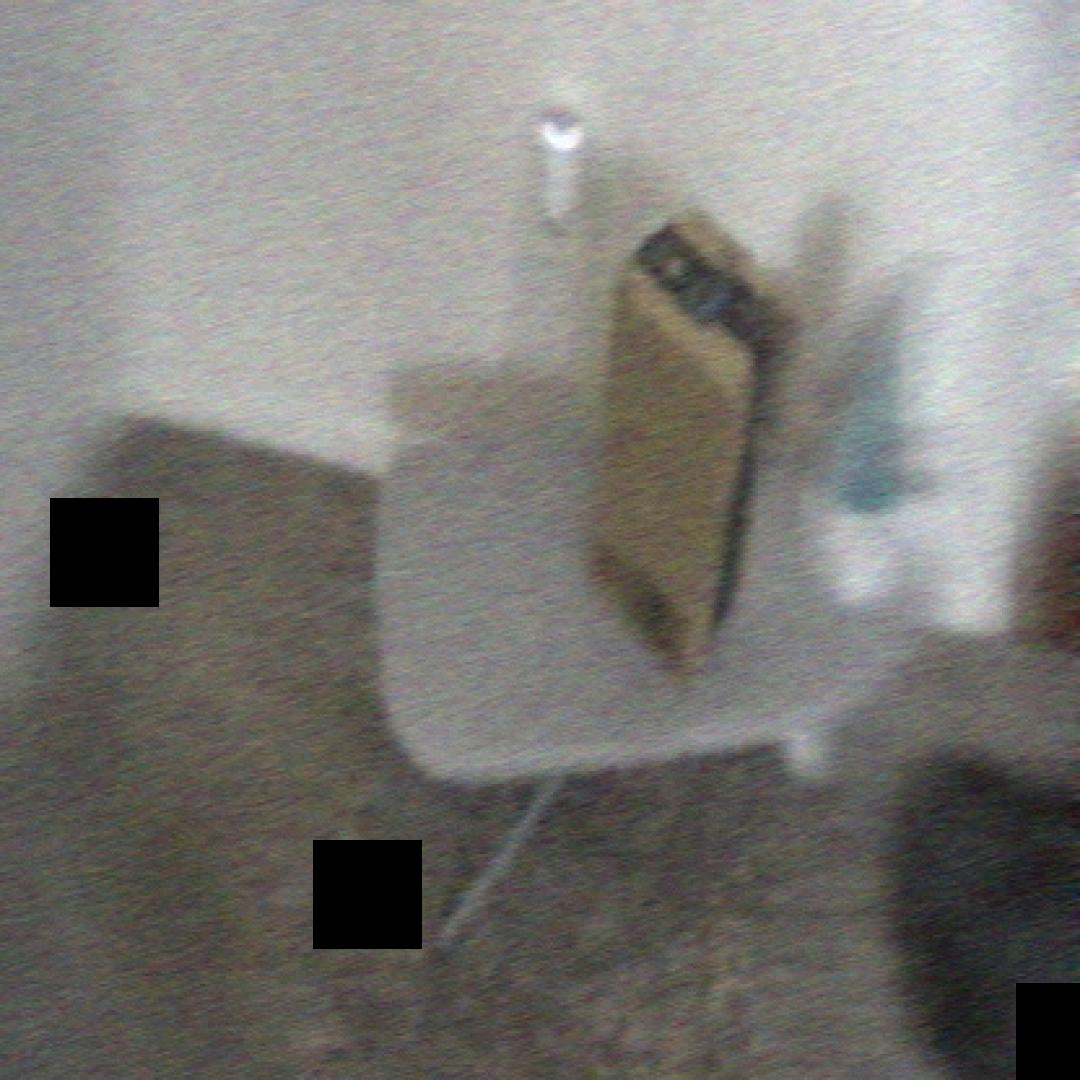package: (576, 176, 818, 714)
